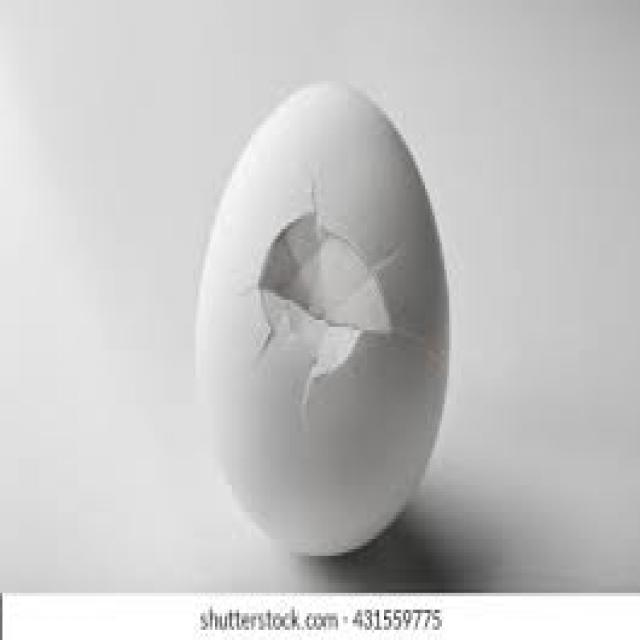biodegradable: (198, 82, 449, 562)
